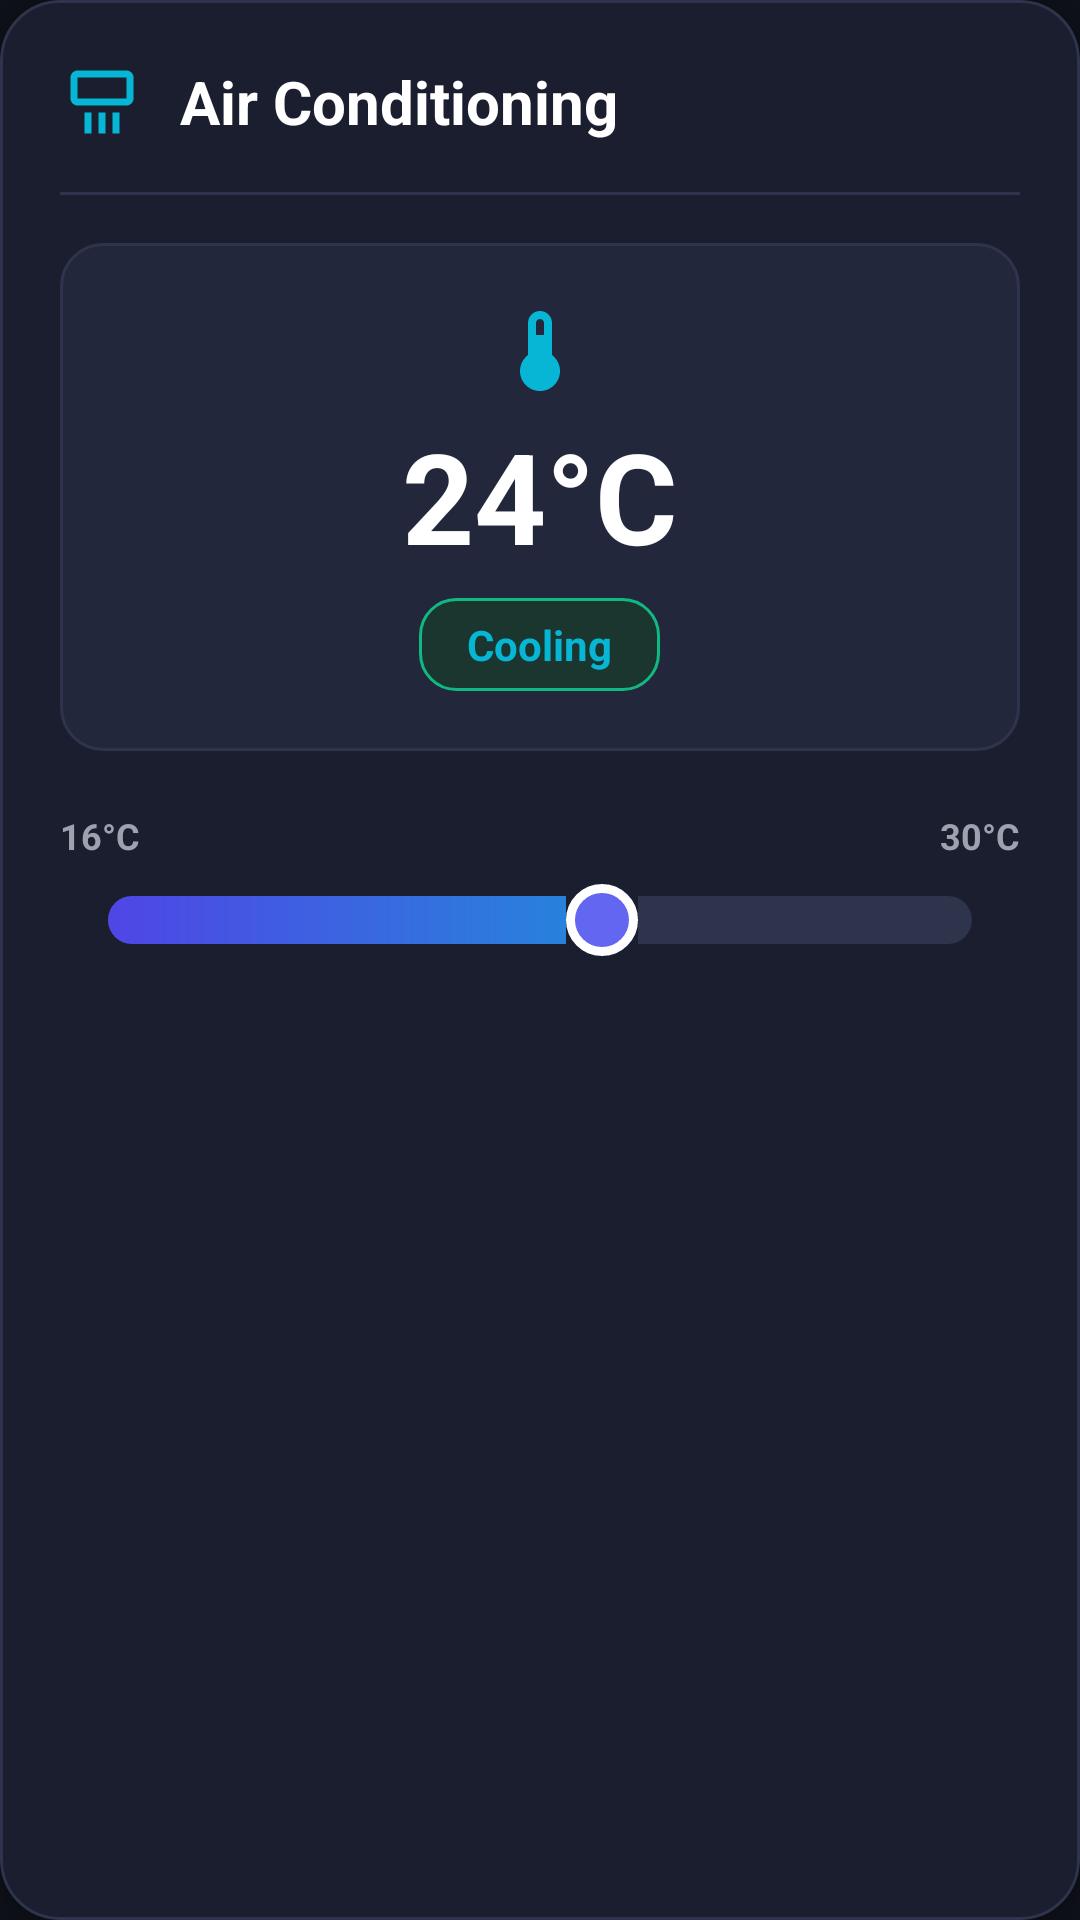

Point at icon controls on the screen. Image size 1080*1920, points as (x,y).
temperature: (540,351)
